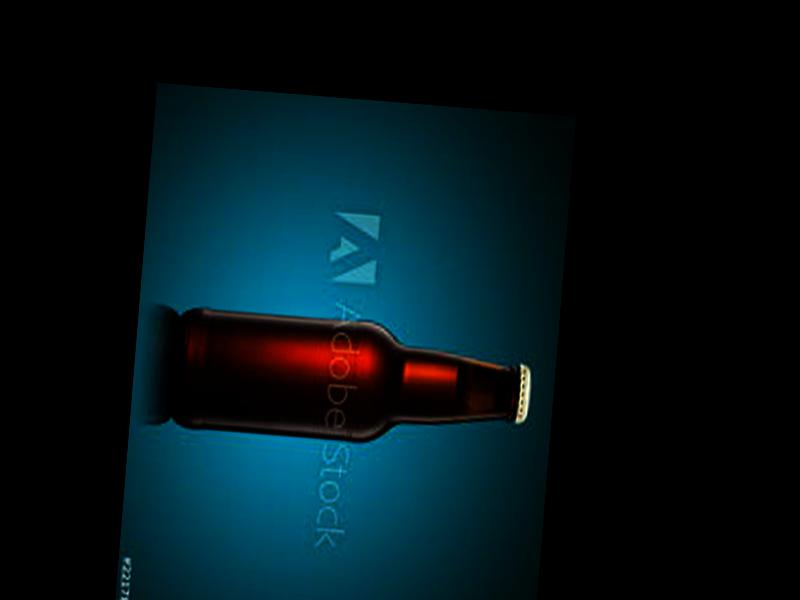Beer: (168, 307, 535, 457)
